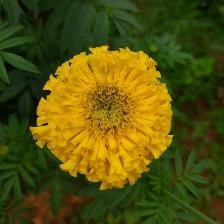marigold: (34, 44, 177, 193)
